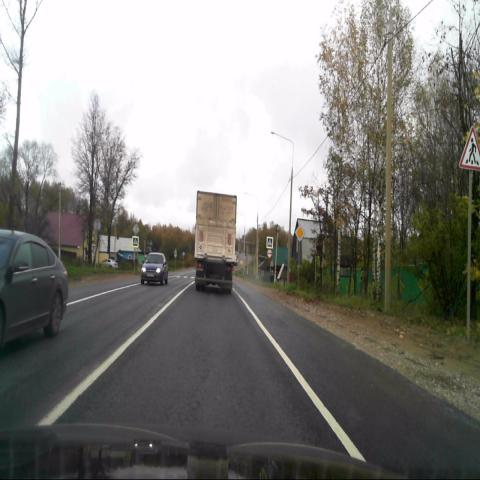1_22: (460, 126, 480, 169)
